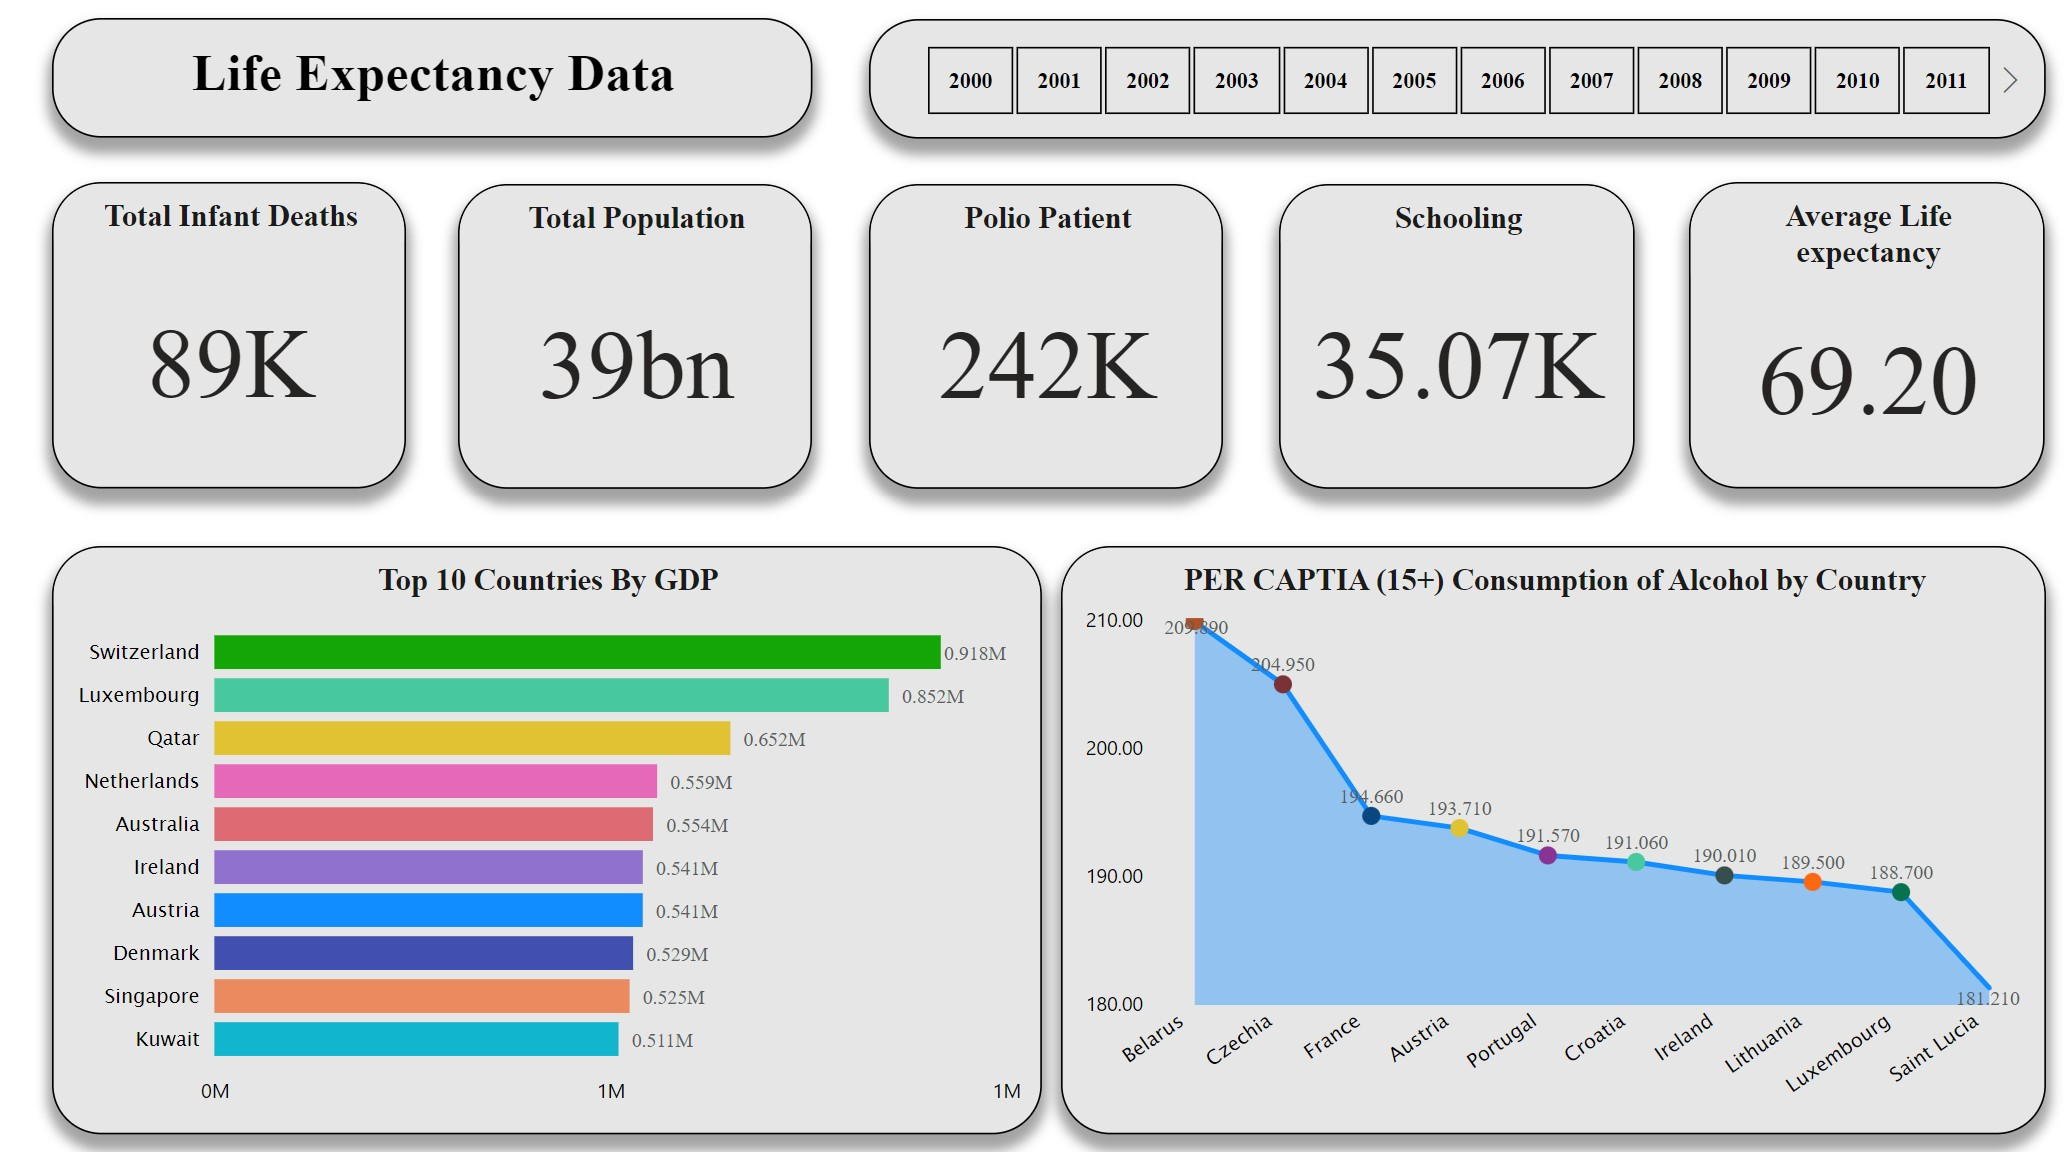

Layout of this report page (visuals, bound fields, positions):
{"tool":"powerbi","page":{"name":"Life Expectancy Dashboard","canvas":[1280,720],"ordinal":0},"visuals":[{"type":"card","title":"Average Life expectancy ","fields":{"Values":["Avg(LifeExpectancyData.Life expectancy )"]},"box":[1035,119.2,217.1,186.8],"z":0},{"type":"card","title":"Total Infant Deaths","fields":{"Values":["Sum(LifeExpectancyData.infant deaths)"]},"box":[36.3,118.9,216.5,186.6],"z":1000},{"type":"card","title":"Total Population","fields":{"Values":["Sum(LifeExpectancyData.Population)"]},"box":[283.9,120.2,216.5,185.9],"z":2000},{"type":"card","title":"Polio Patient","fields":{"Values":["Sum(LifeExpectancyData.Polio)"]},"box":[534.4,120.2,216.5,185.9],"z":3000},{"type":"card","title":"Schooling","fields":{"Values":["Sum(LifeExpectancyData.Schooling)"]},"box":[784.8,120.2,217.1,185.9],"z":4000},{"type":"barChart","title":"Top 10 Countries By GDP","fields":{"Category":["LifeExpectancyData.Country"],"Y":["Sum(LifeExpectancyData.GDP)"]},"box":[36.1,341.3,603.6,359.4],"z":5000},{"type":"textbox","box":[36,19.1,463.5,73.1],"z":6000},{"type":"areaChart","title":"PER CAPTIA (15+) Consumption of Alcohol by Country","fields":{"Category":["LifeExpectancyData.Country"],"Y":["Sum(LifeExpectancyData.Alcohol)"]},"box":[651.4,341.3,600.8,359.4],"z":7000},{"type":"slicer","fields":{"Values":["LifeExpectancyData.Year"]},"box":[534.5,19.5,717.6,72.6],"z":8000}]}

Visuals, with their boxes in screenshot pixels (x1, y1, x2, y2), scaled from the page's 1280x720 canvas onto the 2070x1152 screenshot:
"Average Life expectancy " card: 1674/191/2025/490
"Total Infant Deaths" card: 59/190/409/489
"Total Population" card: 459/192/809/490
"Polio Patient" card: 864/192/1214/490
"Schooling" card: 1269/192/1620/490
"Top 10 Countries By GDP" barChart: 58/546/1035/1121
textbox: 58/31/808/148
"PER CAPTIA (15+) Consumption of Alcohol by Country" areaChart: 1053/546/2025/1121
slicer - LifeExpectancyData.Year: 864/31/2025/147
